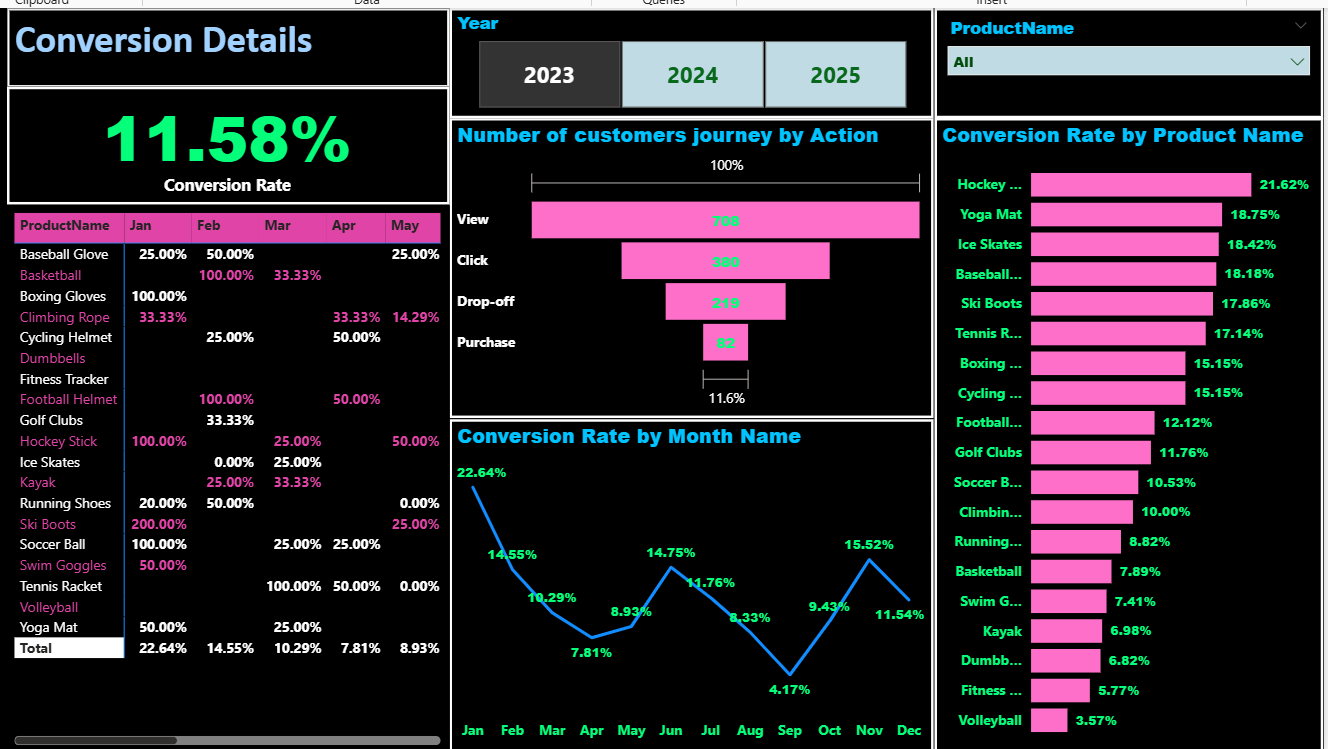

Layout of this report page (visuals, bound fields, positions):
{"tool":"powerbi","page":{"name":"Conversion Details","canvas":[1280,720],"ordinal":2},"visuals":[{"type":"textbox","box":[10.1,0,427.1,76.5],"z":0},{"type":"slicer","fields":{"Values":["dim_products.ProductName"]},"box":[904.6,0,375.1,106.8],"z":1000},{"type":"barChart","title":"Conversion Rate by Product Name","fields":{"Category":["dim_products.ProductName"],"Y":["Calculations.Conversion Rate"]},"box":[904.6,106.8,375.1,613.2],"z":2000},{"type":"funnel","fields":{"Y":["Calculations.Number of customers journey"],"Category":["fact_customer_journey.Action"]},"box":[437.2,106.8,467.5,290],"z":3000},{"type":"lineChart","title":"Conversion Rate by Month Name","fields":{"Category":["Calendar.MonthNameShort"],"Y":["Calculations.Conversion Rate"]},"box":[437.2,396.8,467.5,323.2],"z":4000},{"type":"card","fields":{"Values":["Calculations.Conversion Rate"]},"box":[10.1,76.5,427.1,114],"z":5000},{"type":"pivotTable","fields":{"Rows":["dim_products.ProductName"],"Columns":["Calendar.MonthNameShort"],"Values":["Calculations.Conversion Rate"]},"box":[10.1,190.4,427.1,529.5],"z":6000},{"type":"slicer","title":"Year","fields":{"Values":["Calendar.Year"]},"box":[437.2,0,467.5,106.8],"z":7000}]}

Visuals, with their boxes in screenshot pixels (x1, y1, x2, y2):
textbox: (left=14, top=7, right=451, bottom=85)
slicer - dim_products.ProductName: (left=929, top=7, right=1313, bottom=116)
"Conversion Rate by Product Name" barChart: (left=929, top=116, right=1313, bottom=744)
funnel - Calculations.Number of customers journey x fact_customer_journey.Action: (left=451, top=116, right=929, bottom=413)
"Conversion Rate by Month Name" lineChart: (left=451, top=413, right=929, bottom=744)
card - Calculations.Conversion Rate: (left=14, top=85, right=451, bottom=202)
pivotTable - dim_products.ProductName x Calendar.MonthNameShort: (left=14, top=202, right=451, bottom=743)
"Year" slicer: (left=451, top=7, right=929, bottom=116)
